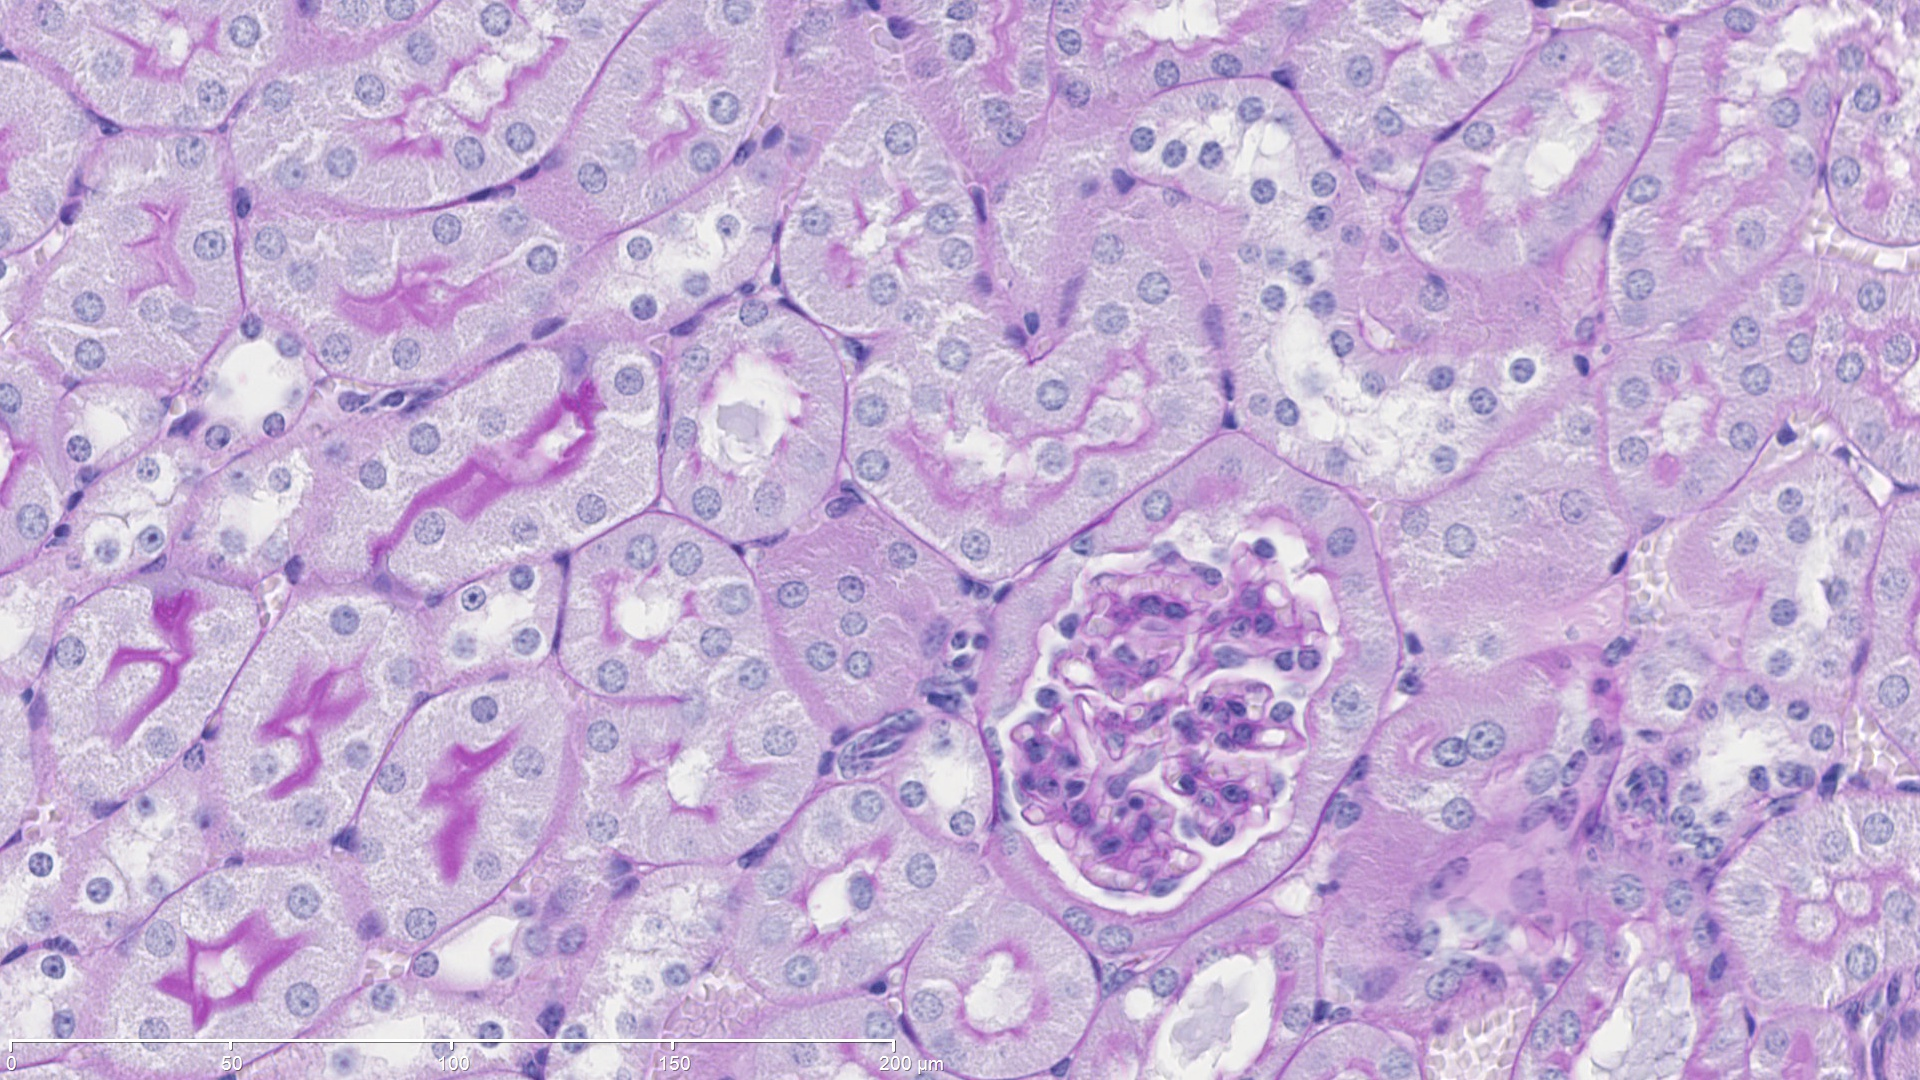Glomeruli: (994, 500, 1356, 915)
